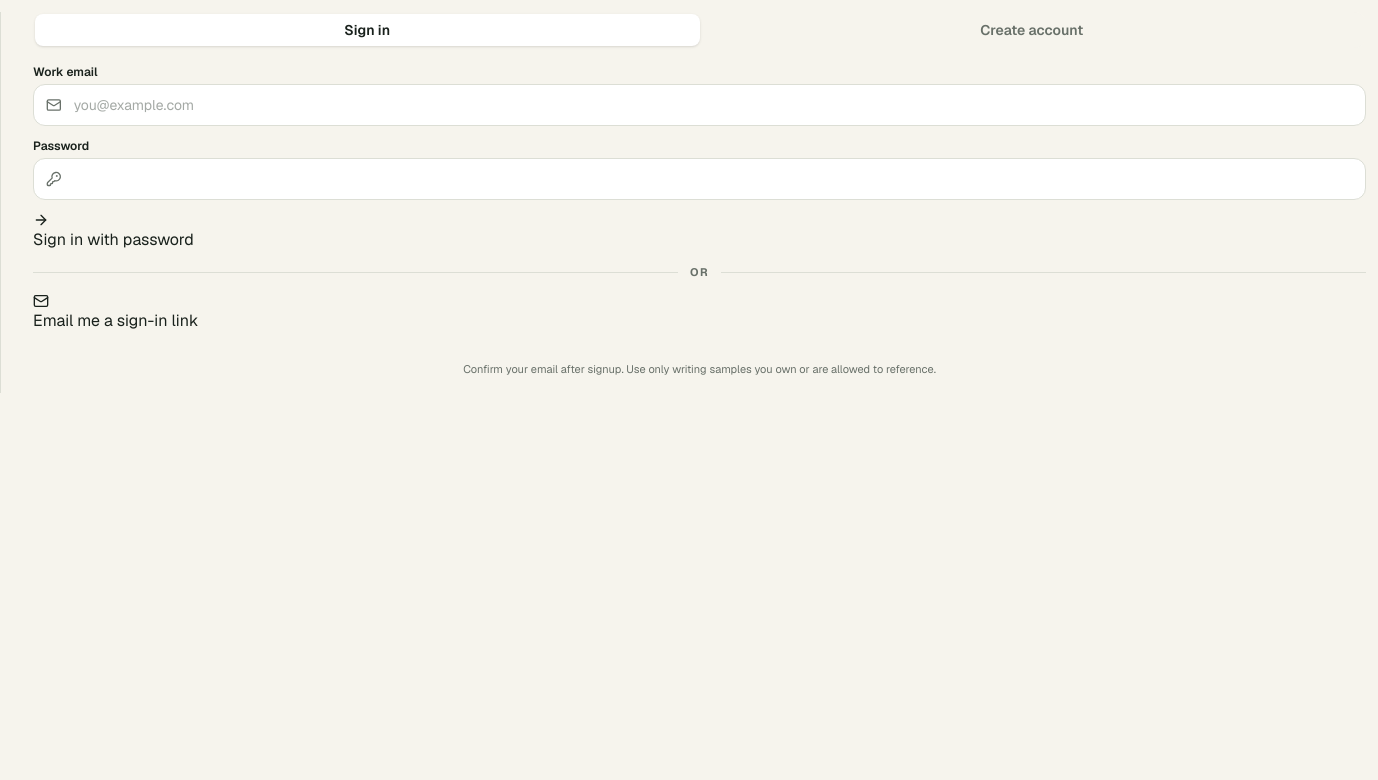
Test: LoginForm › offers password sign-in, account creation, and magic link fallback
The image size is (1378, 780).
Check: the button "Sign in with password" is shown, box x1=33 y1=212 x2=194 y2=252
Check: the button "Email me a sign-in link" is shown, box x1=33 y1=292 x2=198 y2=332
Click the button "Create account": click(1032, 30) x1=700 y1=14 x2=1364 y2=46
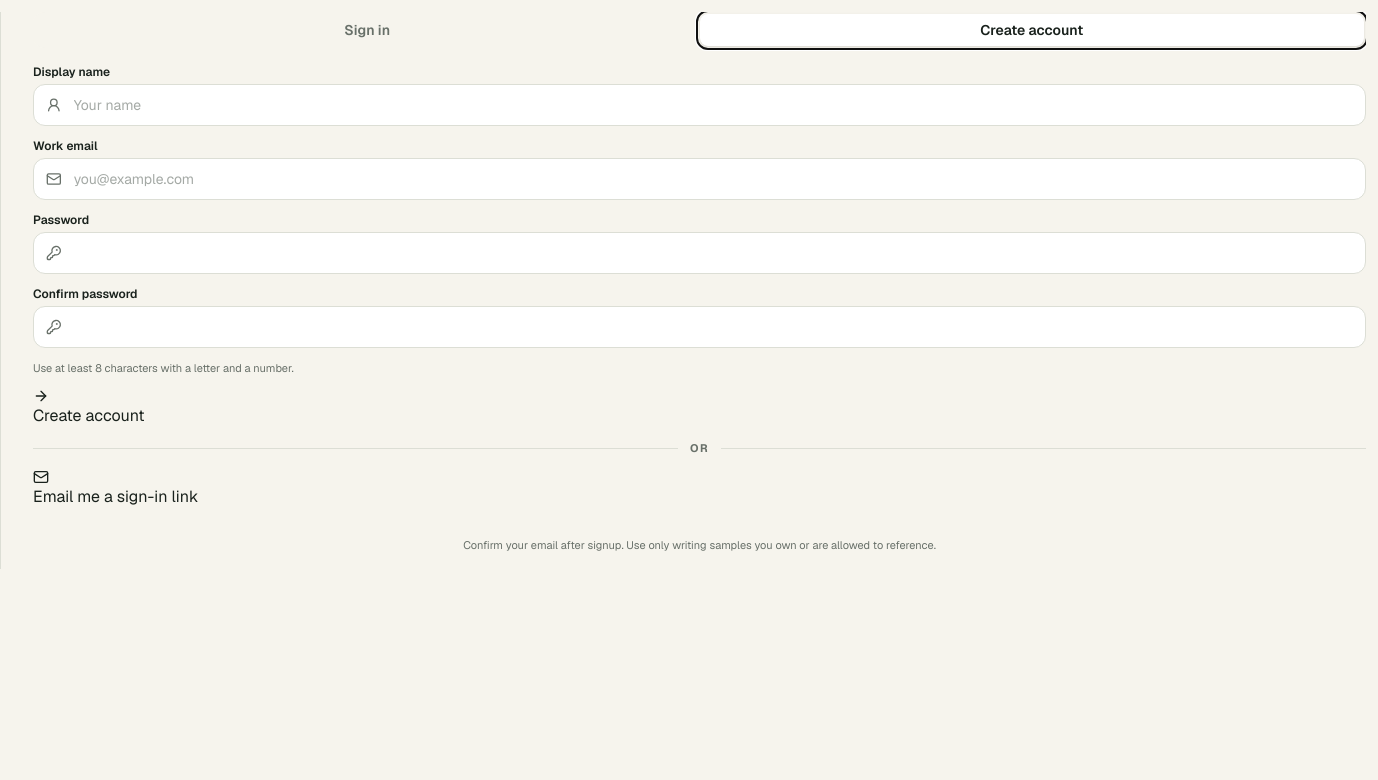
Check: the field labelled "Display name" is shown, box x1=74 y1=85 x2=1353 y2=125
Check: the password field labelled "Confirm password" is shown, box x1=74 y1=307 x2=1353 y2=347
